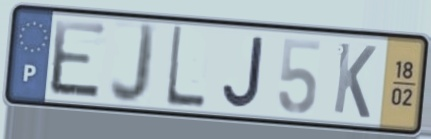5: (275, 35, 324, 117)
E: (48, 16, 109, 102)
J: (107, 19, 160, 108), (220, 34, 266, 111)
K: (330, 39, 379, 122)
L: (163, 23, 208, 112)
